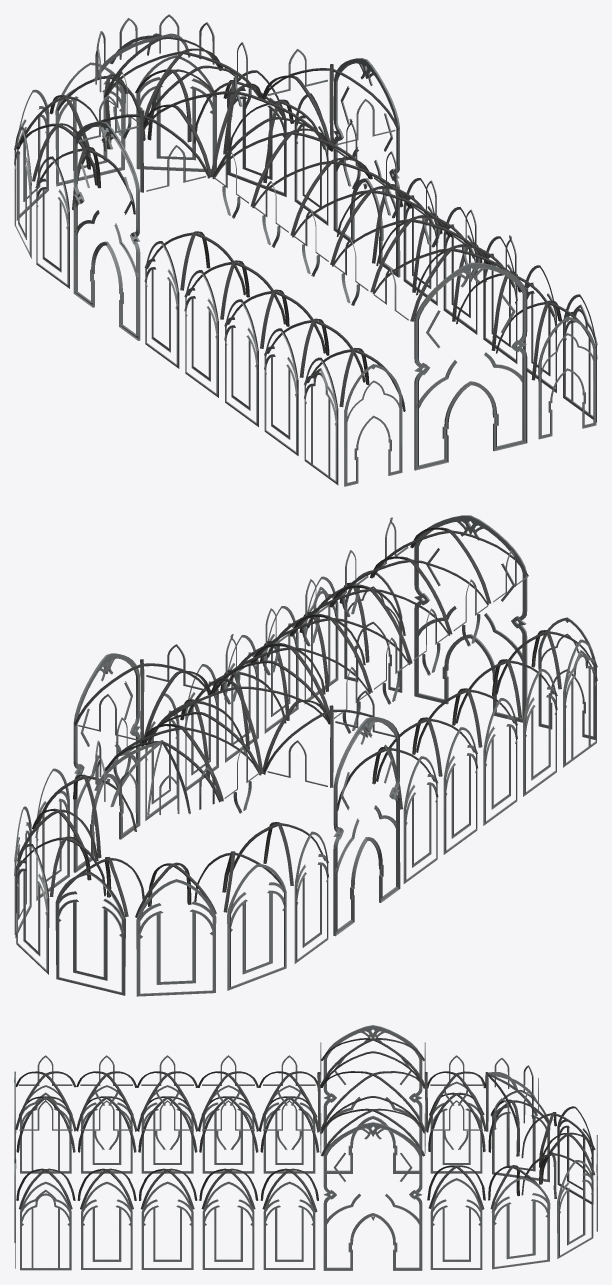
File: Indoor_MdBuild_Church01_Wall_1237_0.fbx
The picture shows the model from 3 angles, top to bottom: view 1: azimuth 30°, elevation 25°; view 2: azimuth 150°, elevation 25°; view 3: azimuth 270°, elevation 25°; orthographic projection. The views are drawn at different scales.
Visible parts, largest first — view 1: Indoor_MdBuild_Church01_Wall_1237_0; view 2: Indoor_MdBuild_Church01_Wall_1237_0; view 3: Indoor_MdBuild_Church01_Wall_1237_0.
Boxes of the visible parts, x1,y1,x2,y2 form: Indoor_MdBuild_Church01_Wall_1237_0: (14, 14, 597, 486); Indoor_MdBuild_Church01_Wall_1237_0: (14, 515, 597, 996); Indoor_MdBuild_Church01_Wall_1237_0: (14, 1025, 597, 1270).
Size of the model in its own units: 30.5 by 21.64 by 76.75.
